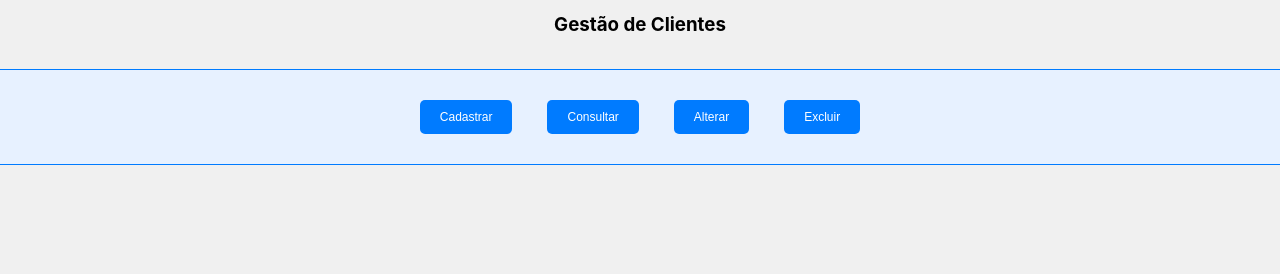
Test case: ct01 - quando consulta os detalhes do cliente sao apresentados
quando o botão "Consultar" é selecionado
Click the button "Consultar".
click(593, 117)  # box [548,100,639,134]
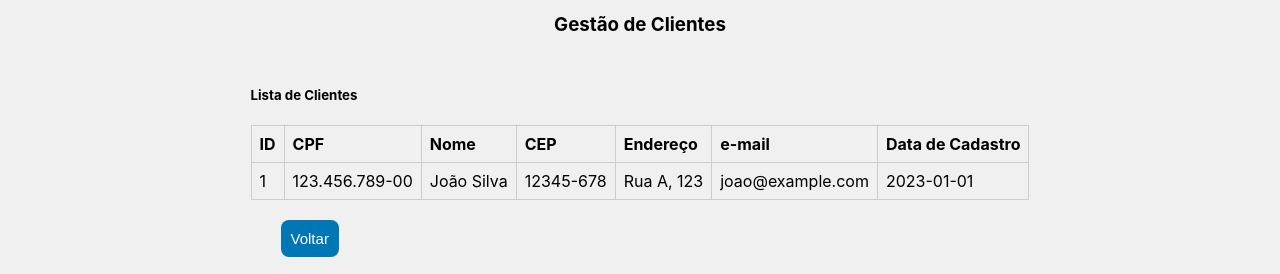
Now the heading "Lista de Clientes" is shown, box [250,87,357,103]
